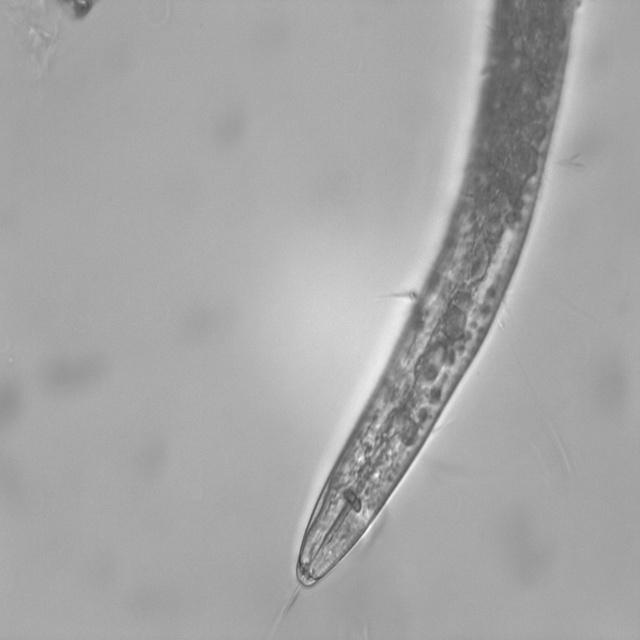Helicotylenchus: (282, 211, 534, 589)
